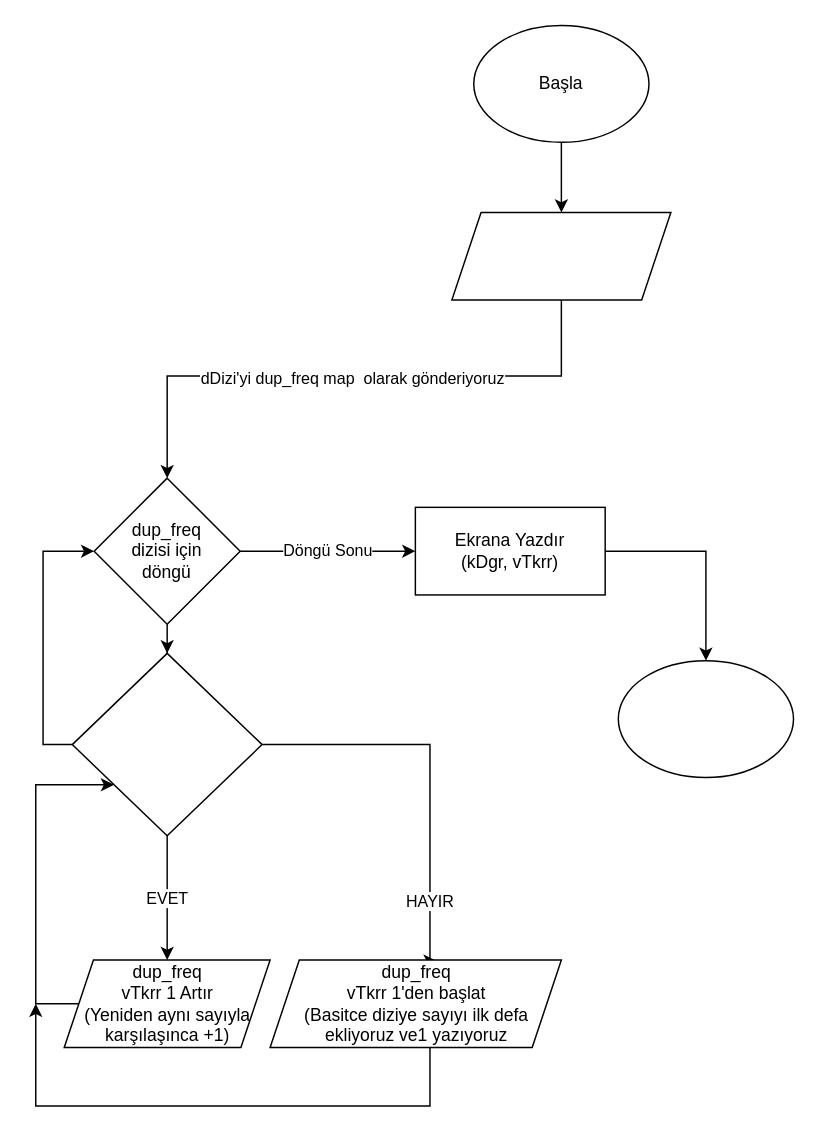
Image size: 819x1143. Some labels were removed from this diagram. Each missing label, with the box of its shape:
Bitir: (617, 659, 794, 777)
Dizi boyunca dön, kontrol et Sayı dizide var mı?: (71, 652, 262, 836)
Tanımla ( dDizi, dSrlma): (450, 211, 671, 300)
